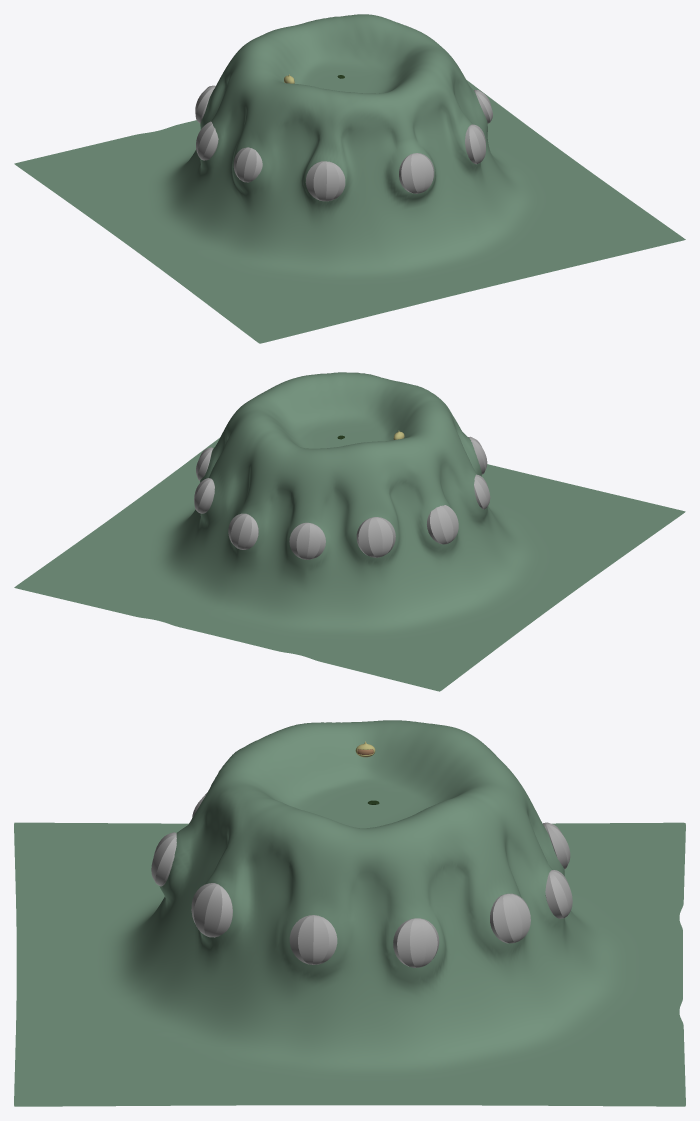
The model's file is MountainScene.fbx.
3 renders of one model, top to bottom at view 1: azimuth 30°, elevation 25°; view 2: azimuth 150°, elevation 25°; view 3: azimuth 270°, elevation 25°, orthographic. The views are drawn at different scales.
Visible parts, largest first — view 1: mountain1, MountainBall_8, MountainBall_10, MountainBall_7, MountainBall_9, MountainBall_6; view 2: mountain1, MountainBall_5, MountainBall_4, MountainBall_6, MountainBall_3, MountainBall_2; view 3: mountain1, MountainBall_11, MountainBall_1, MountainBall_9, MountainBall_2, MountainBall_3, MountainBall_10, MountainBall_4.
Part boxes in pixels (<box>): mountain1: <box>14,14,685,343</box>; MountainBall_8: <box>305,161,345,201</box>; MountainBall_10: <box>399,153,434,193</box>; MountainBall_7: <box>233,147,262,182</box>; MountainBall_9: <box>465,124,485,164</box>; MountainBall_6: <box>196,121,218,160</box>; mountain1: <box>14,372,685,691</box>; MountainBall_5: <box>356,517,395,557</box>; MountainBall_4: <box>289,522,325,559</box>; MountainBall_6: <box>427,505,458,544</box>; MountainBall_3: <box>228,513,258,549</box>; MountainBall_2: <box>194,478,214,513</box>; mountain1: <box>14,720,685,1106</box>; MountainBall_11: <box>289,915,337,964</box>; MountainBall_1: <box>393,918,439,967</box>; MountainBall_9: <box>191,883,232,937</box>; MountainBall_2: <box>490,893,530,943</box>; MountainBall_3: <box>545,870,572,918</box>; MountainBall_10: <box>151,832,176,886</box>; MountainBall_4: <box>543,822,570,869</box>.
Size of the model in its own units: 24.74 by 8.05 by 24.74.
